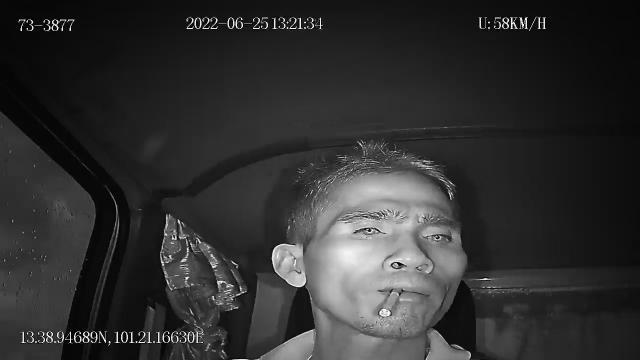SafeDriving: (344, 216, 392, 243), (415, 224, 459, 248)
Smoking: (379, 288, 401, 318)
